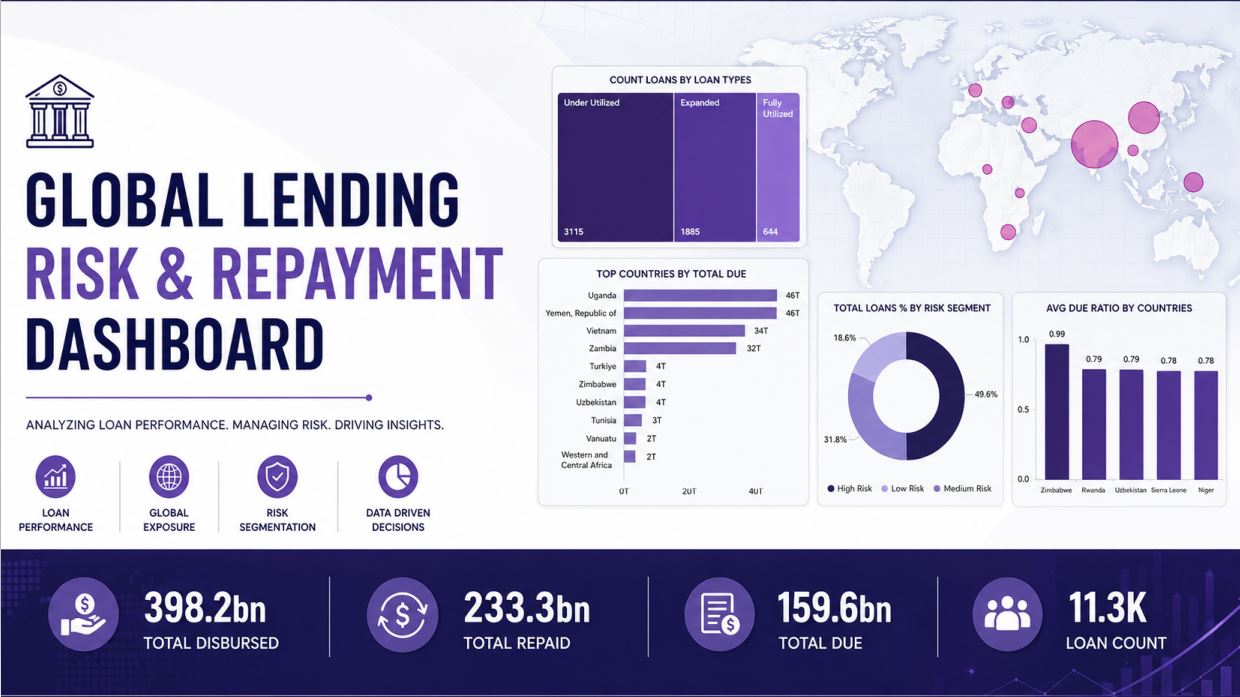

Layout of this report page (visuals, bound fields, positions):
{"tool":"powerbi","page":{"name":"Global Lending Risk & Repayment Dashboard","canvas":[1280,720],"ordinal":0},"visuals":[{"type":"card","fields":{"Values":["Avg(Risk_Base_V2.Total Disbursed)"]},"box":[0,0,140,71.2],"z":0},{"type":"card","fields":{"Values":["Avg(Risk_Base_V2.Total Repaid)"]},"box":[140,0,135,71.2],"z":1000},{"type":"card","fields":{"Values":["Avg(Risk_Base_V2.Total Due)"]},"box":[275,0,133.8,71.2],"z":2000},{"type":"card","fields":{"Values":["CountNonNull(Risk_Base_V2.Loan Count)"]},"box":[408.8,0,135,71.2],"z":3000},{"type":"map","title":"Total Disbursed by Countries","fields":{"Category":["Q1_where's the money going.country"],"Size":["Sum(Q1_where's the money going.total_disbursed)"]},"box":[553.8,0,726.2,431.2],"z":4000},{"type":"columnChart","title":"Avg Due Ratio by Countries","fields":{"Y":["Sum(Q2_who is not paying back.avg_due_ratio)"],"Category":["Q2_who is not paying back.country"]},"box":[917.5,441.2,362.5,278.8],"z":5000},{"type":"donutChart","title":"Total Loans % by Risk Segment","fields":{"Category":["Q3_which loans are risky.risk_segment"],"Y":["CountNonNull(Q3_which loans are risky.total_loans)"],"Series":["Q3_which loans are risky.percentage"]},"box":[553.8,441.2,353.8,278.8],"z":6000},{"type":"clusteredBarChart","title":"Top Countries by Total Due","fields":{"Category":["Risk_Base_V2.country"],"Y":["Sum(Risk_Base_V2.Total Due)"]},"box":[0,360,543.8,360],"z":7000},{"type":"treemap","title":"Count Loans by Loan Types","fields":{"Values":["Sum(loans_type.count_loans)"],"Group":["loans_type.loan_type"]},"box":[0,87.5,543.8,257.5],"z":8000}]}

Visuals, with their boxes in screenshot pixels (x1, y1, x2, y2), scaled from the page's 1280x720 canvas onto the 1240x697 screenshot:
card - Avg(Risk_Base_V2.Total Disbursed): (x1=0, y1=0, x2=136, y2=69)
card - Avg(Risk_Base_V2.Total Repaid): (x1=136, y1=0, x2=266, y2=69)
card - Avg(Risk_Base_V2.Total Due): (x1=266, y1=0, x2=396, y2=69)
card - CountNonNull(Risk_Base_V2.Loan Count): (x1=396, y1=0, x2=527, y2=69)
"Total Disbursed by Countries" map: (x1=536, y1=0, x2=1239, y2=417)
"Avg Due Ratio by Countries" columnChart: (x1=889, y1=427, x2=1239, y2=696)
"Total Loans % by Risk Segment" donutChart: (x1=536, y1=427, x2=879, y2=696)
"Top Countries by Total Due" clusteredBarChart: (x1=0, y1=348, x2=527, y2=696)
"Count Loans by Loan Types" treemap: (x1=0, y1=85, x2=527, y2=334)
